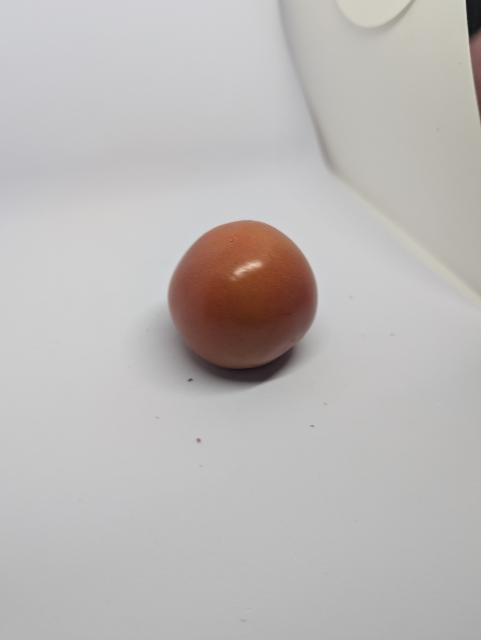red: (156, 216, 330, 381)
